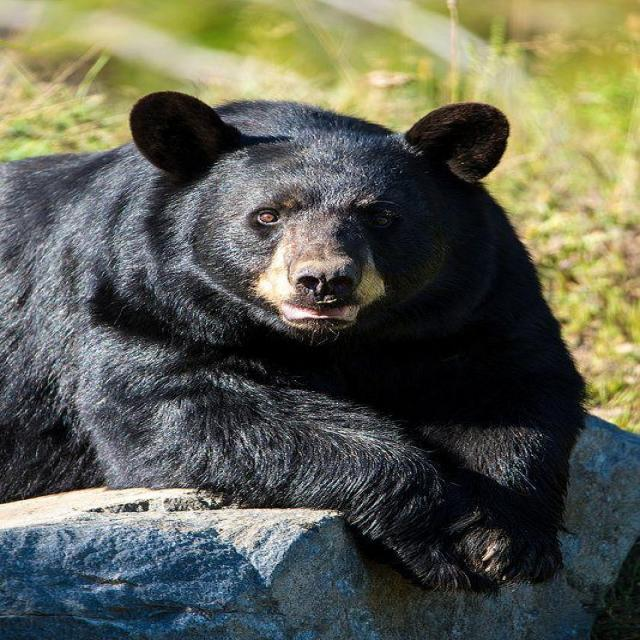Bear: (0, 92, 586, 595)
